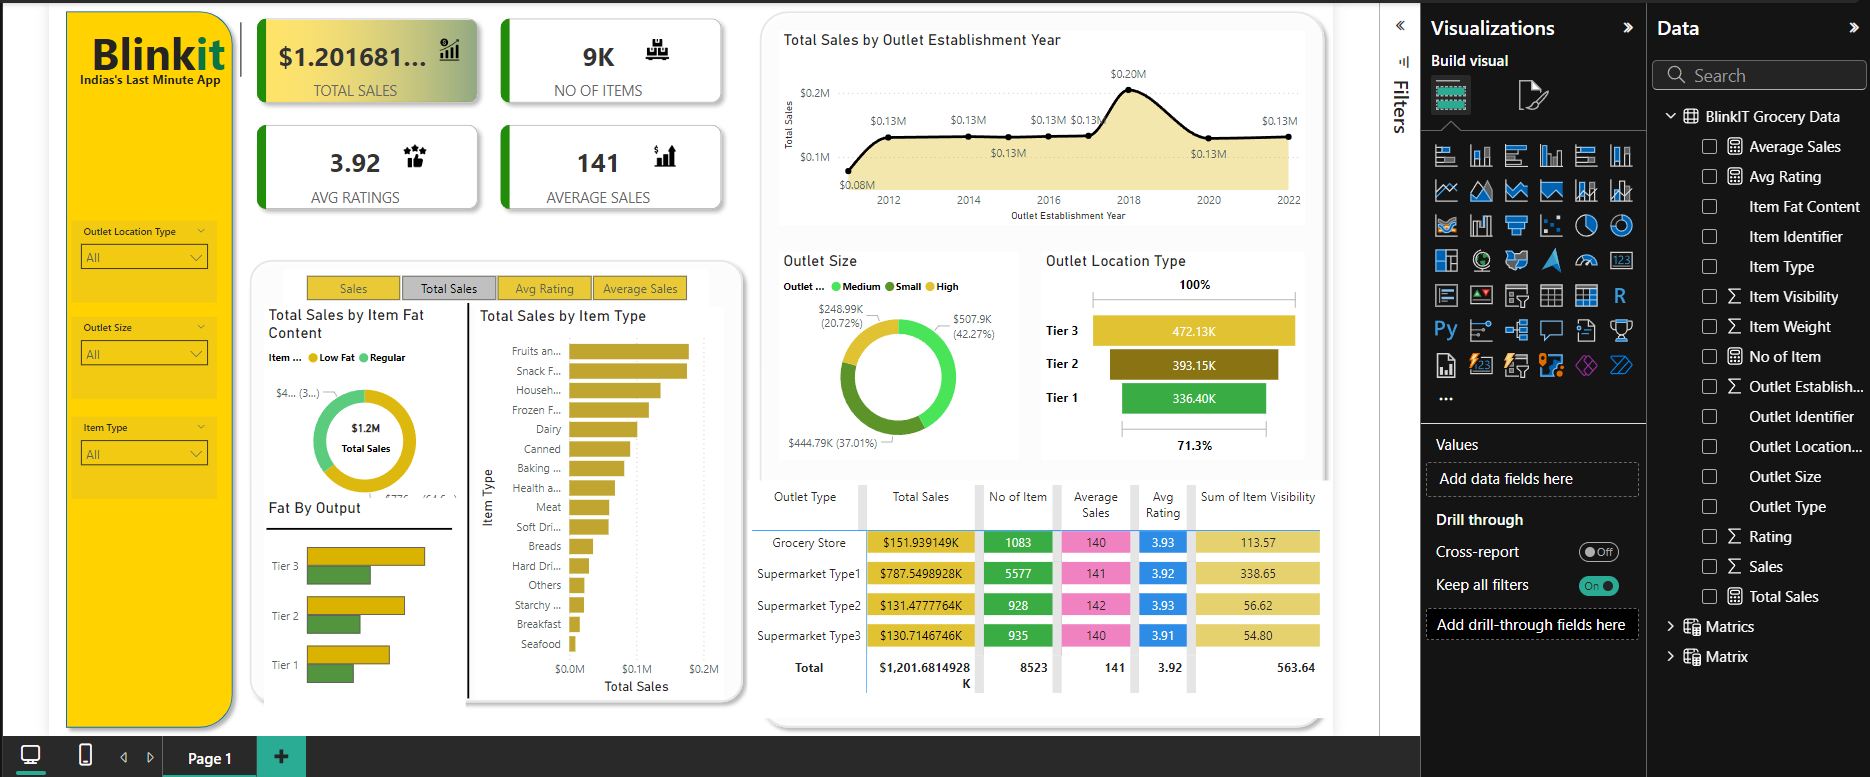

Layout of this report page (visuals, bound fields, positions):
{"tool":"powerbi","page":{"name":"Page 1","canvas":[1400,800],"ordinal":0},"visuals":[{"type":"shape","box":[9.3,0,199.9,799.5],"z":0},{"type":"textbox","box":[25,16.7,196.7,71.7],"z":1000},{"type":"textbox","box":[28.3,70,165,36.7],"z":2000},{"type":"cardVisual","fields":{"Data":["BlinkIT Grocery Data.Total Sales","BlinkIT Grocery Data.No of Item","BlinkIT Grocery Data.Avg Rating","BlinkIT Grocery Data.Average Sales"]},"box":[210,0,541.5,242.9],"z":3000},{"type":"shape","box":[210,271.8,555.9,500.3],"z":4000},{"type":"donutChart","fields":{"Y":["BlinkIT Grocery Data.Total Sales"],"Category":["BlinkIT Grocery Data.Item Fat Content"]},"box":[235,330,220,230],"z":5000},{"type":"slicer","fields":{"Values":["Matrics.Matrics"]},"box":[255,290,465,40],"z":6000},{"type":"card","fields":{"Values":["BlinkIT Grocery Data.Total Sales"]},"box":[311.6,445.4,66.9,52.8],"z":7000},{"type":"clusteredBarChart","title":"Fat By Output","fields":{"Y":["BlinkIT Grocery Data.Total Sales"],"Category":["BlinkIT Grocery Data.Outlet Location Type"],"Series":["BlinkIT Grocery Data.Item Fat Content"]},"box":[234.2,540.5,220.1,230.6],"z":8000},{"type":"shape","box":[237.7,559.9,202.5,26.4],"z":9000},{"type":"shape","box":[433.1,327.5,47.5,431.3],"z":10000},{"type":"barChart","fields":{"Y":["BlinkIT Grocery Data.Total Sales"],"Category":["BlinkIT Grocery Data.Item Type"]},"box":[464.8,331,271.1,427.8],"z":11000},{"type":"shape","box":[765.9,0,633.8,799.3],"z":12000},{"type":"lineChart","fields":{"Category":["BlinkIT Grocery Data.Outlet Establishment Year"],"Y":["BlinkIT Grocery Data.Total Sales"]},"box":[795.8,29.9,574,213],"z":13000},{"type":"donutChart","title":"Outlet Size","fields":{"Y":["BlinkIT Grocery Data.Total Sales"],"Category":["BlinkIT Grocery Data.Outlet Size"]},"box":[795.8,271.1,260.6,227.1],"z":14000},{"type":"funnel","title":"Outlet Location Type","fields":{"Y":["Sum(BlinkIT Grocery Data.Sales)"],"Category":["BlinkIT Grocery Data.Outlet Location Type"]},"box":[1082.8,271.1,287,227.1],"z":15000},{"type":"pivotTable","fields":{"Values":["BlinkIT Grocery Data.Total Sales","BlinkIT Grocery Data.No of Item","BlinkIT Grocery Data.Average Sales","BlinkIT Grocery Data.Avg Rating","Sum(BlinkIT Grocery Data.Item Visibility)"],"Rows":["BlinkIT Grocery Data.Outlet Type"]},"box":[762.3,521.1,637.3,258.8],"z":16000},{"type":"slicer","fields":{"Values":["BlinkIT Grocery Data.Outlet Location Type"]},"box":[24.6,237.7,158.5,89.8],"z":17000},{"type":"slicer","fields":{"Values":["BlinkIT Grocery Data.Outlet Size"]},"box":[24.6,341.6,158.5,89.8],"z":17001},{"type":"slicer","fields":{"Values":["BlinkIT Grocery Data.Item Type"]},"box":[24.6,450.7,158.5,89.8],"z":17002}]}

Visuals, with their boxes on the page's 1400x800 design canvas (x1, y1, x2, y2). These are canvas units, not pixel positions in the 1870x777 screenshot, which may show the page scaled, cropped or inside an application window:
shape: Rect(9, 0, 209, 800)
textbox: Rect(25, 17, 222, 88)
textbox: Rect(28, 70, 193, 107)
cardVisual - BlinkIT Grocery Data.Total Sales x BlinkIT Grocery Data.No of Item: Rect(210, 0, 752, 243)
shape: Rect(210, 272, 766, 772)
donutChart - BlinkIT Grocery Data.Total Sales x BlinkIT Grocery Data.Item Fat Content: Rect(235, 330, 455, 560)
slicer - Matrics.Matrics: Rect(255, 290, 720, 330)
card - BlinkIT Grocery Data.Total Sales: Rect(312, 445, 378, 498)
"Fat By Output" clusteredBarChart: Rect(234, 540, 454, 771)
shape: Rect(238, 560, 440, 586)
shape: Rect(433, 328, 481, 759)
barChart - BlinkIT Grocery Data.Total Sales x BlinkIT Grocery Data.Item Type: Rect(465, 331, 736, 759)
shape: Rect(766, 0, 1400, 799)
lineChart - BlinkIT Grocery Data.Outlet Establishment Year x BlinkIT Grocery Data.Total Sales: Rect(796, 30, 1370, 243)
"Outlet Size" donutChart: Rect(796, 271, 1056, 498)
"Outlet Location Type" funnel: Rect(1083, 271, 1370, 498)
pivotTable - BlinkIT Grocery Data.Total Sales x BlinkIT Grocery Data.No of Item: Rect(762, 521, 1400, 780)
slicer - BlinkIT Grocery Data.Outlet Location Type: Rect(25, 238, 183, 328)
slicer - BlinkIT Grocery Data.Outlet Size: Rect(25, 342, 183, 431)
slicer - BlinkIT Grocery Data.Item Type: Rect(25, 451, 183, 540)
